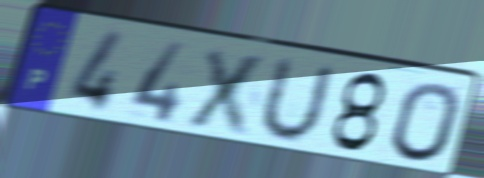4: (64, 27, 127, 118), (126, 37, 188, 127)
8: (330, 70, 389, 154)
O: (388, 79, 463, 165)
U: (253, 54, 338, 146)
X: (180, 44, 275, 141)
